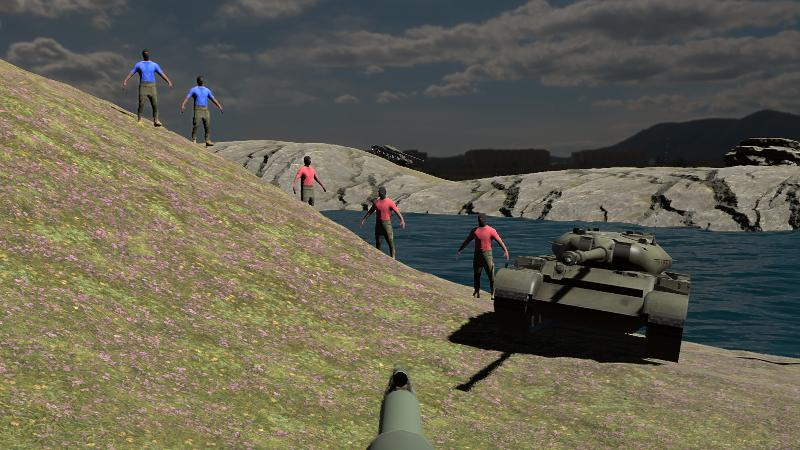Human: (457, 212, 508, 300), (123, 49, 173, 128), (361, 187, 404, 271), (181, 75, 224, 148), (181, 74, 223, 148), (294, 154, 326, 228)
Tank: (493, 227, 691, 362), (788, 187, 800, 233)
